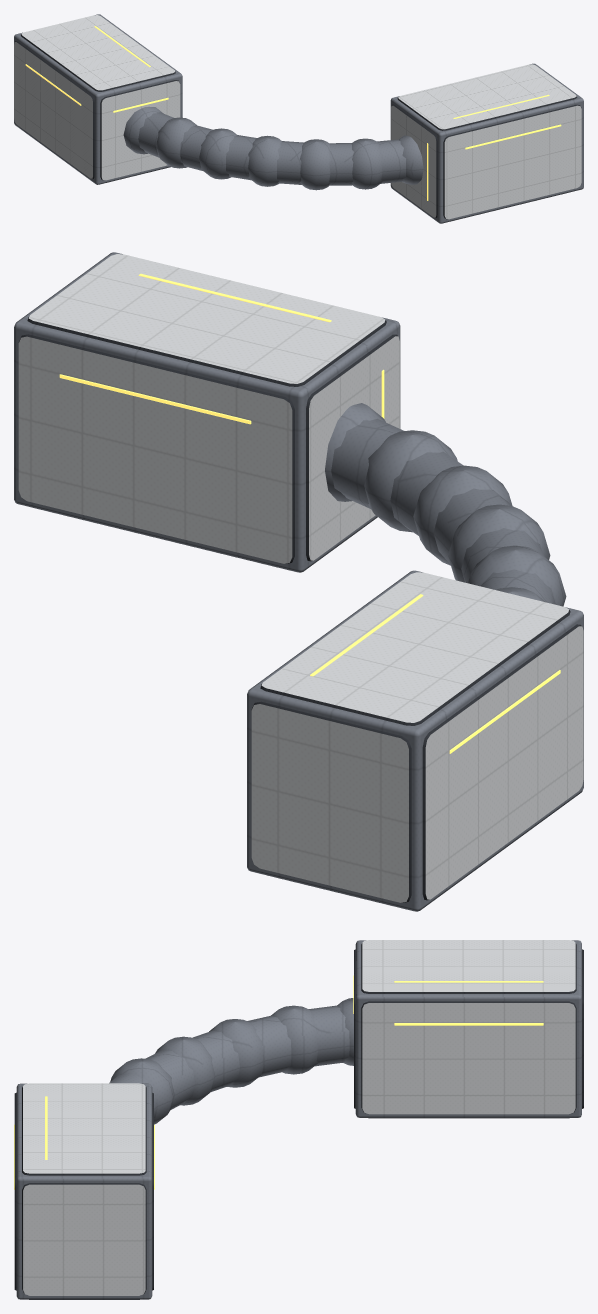
Rendered from R4C_ROD_ARC_SHORT.glb.
3 views of the same model, one above another, from view 1: azimuth 30°, elevation 25°; view 2: azimuth 150°, elevation 25°; view 3: azimuth 270°, elevation 25° (orthographic). The views are drawn at different scales.
Visible parts, largest first — view 1: R4C_ROD_ARC_SHORT; view 2: R4C_ROD_ARC_SHORT; view 3: R4C_ROD_ARC_SHORT.
Boxes of the visible parts, box(x1,y1,x2,y2) form: R4C_ROD_ARC_SHORT: box(14, 14, 583, 223); R4C_ROD_ARC_SHORT: box(14, 252, 583, 911); R4C_ROD_ARC_SHORT: box(14, 940, 583, 1299).
Size of the model in its own units: 0.9242 by 0.2284 by 0.9242.
Materials: 4 (3 with a texture image).
